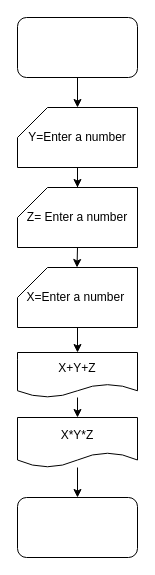
Some shapes in this 155 by 575 pixel diagram are drawn without their labels. Each missing label, with the centre of its shape:
"END" belongs at pixel 77 527.
"START" belongs at pixel 77 47.
